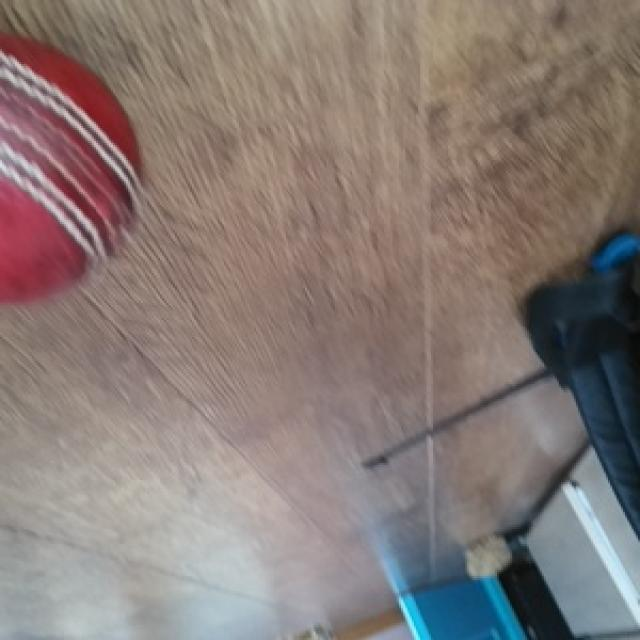ball: (0, 30, 141, 307)
